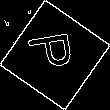P_E: (27, 32, 83, 78)
